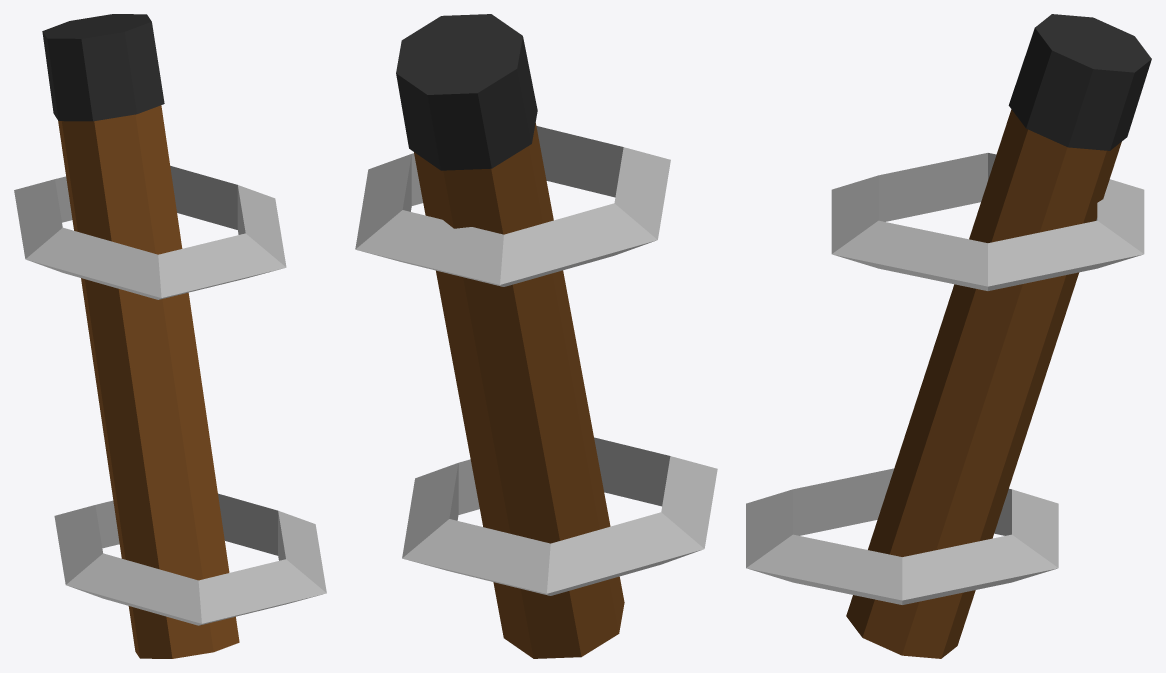
Rendered from Antorcha.fbx.
3 renders of one model, left to right at view 1: azimuth 30°, elevation 25°; view 2: azimuth 150°, elevation 25°; view 3: azimuth 270°, elevation 25°, orthographic. The views are drawn at different scales.
Visible parts, largest first — view 1: Cylinder; view 2: Cylinder; view 3: Cylinder.
Part boxes in pixels (box(x1,y1,x2,y2)): Cylinder: box(14, 14, 326, 658); Cylinder: box(355, 14, 717, 658); Cylinder: box(746, 14, 1151, 658).
Size of the model in its own units: 28.1 by 62.67 by 37.28.
